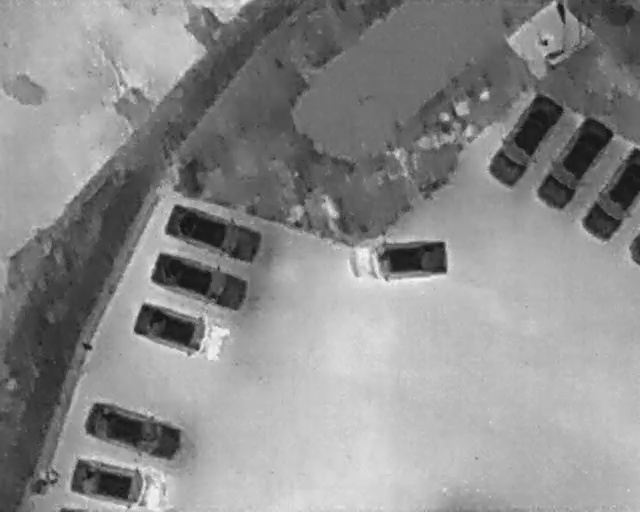Car: (527, 108, 620, 218), (480, 85, 570, 194), (158, 193, 268, 267), (78, 395, 190, 467), (127, 296, 236, 367), (143, 245, 253, 315), (64, 451, 173, 510), (579, 145, 639, 244), (344, 235, 454, 288)
